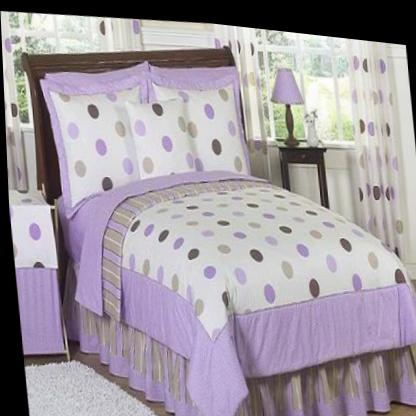Bed: (17, 14, 416, 416)
